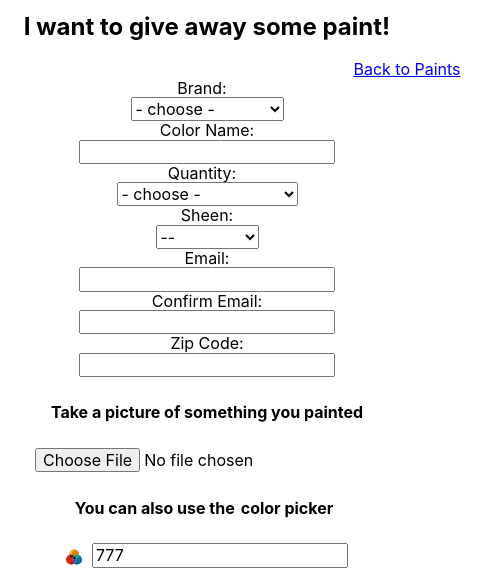
navigates.. › Informs you that emails need to match
Select "Sherwin-Williams" in the dropdown with id "brand" at (208, 109), box [131, 97, 284, 121]
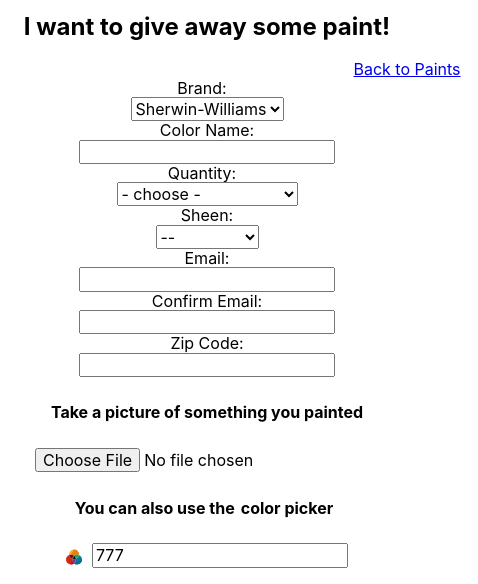
Type "Leopard" into the field with id "name" at (207, 152), box [79, 140, 335, 164]
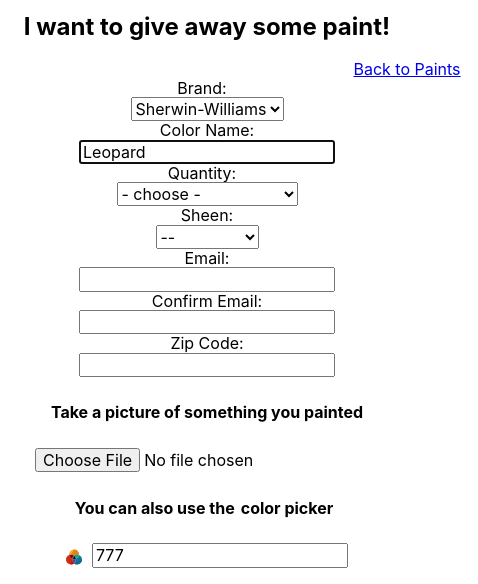
Select "less than a gallon" in the dropdown labelled "Quantity:" at (208, 194), box [117, 182, 298, 206]
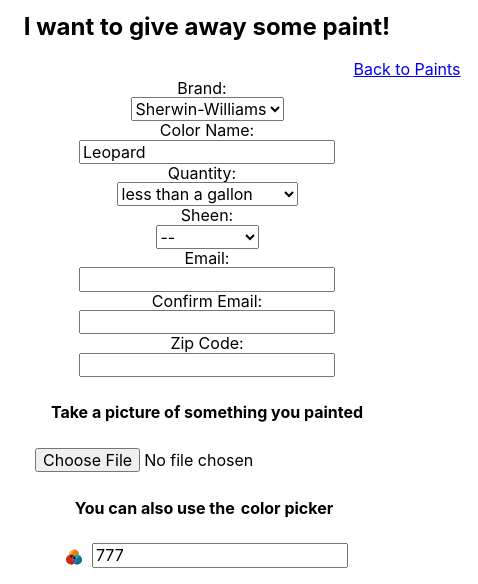
Type "aosdin@cox.org" into the field with id "email" at (207, 279), box [79, 267, 335, 291]
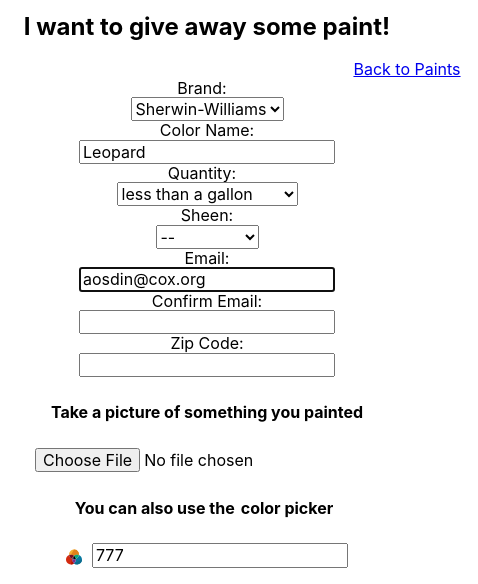
Type "notTheSame" into the field with id "confirmEmail" at (207, 322), box [79, 310, 335, 334]
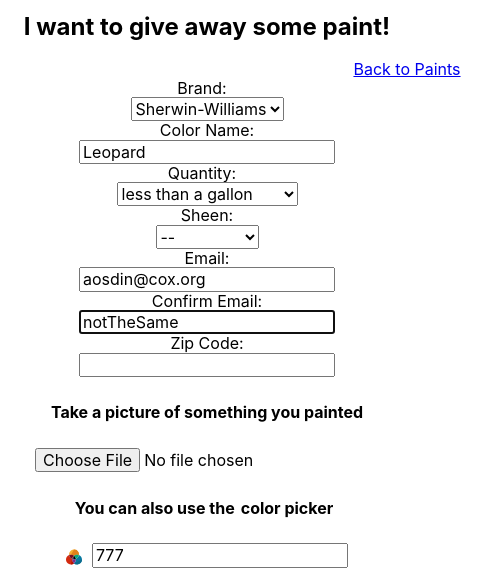
Click the field with id "rgbDisplay" at (220, 555), box [92, 543, 348, 567]
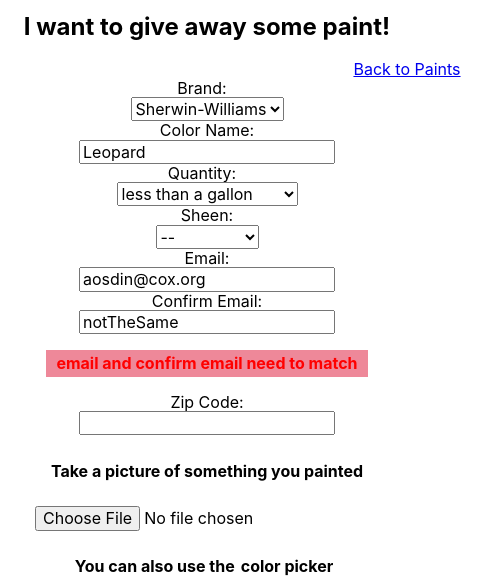
Result: the text with test id "confirm-email-error" shows "match" at [56, 353, 357, 373]
